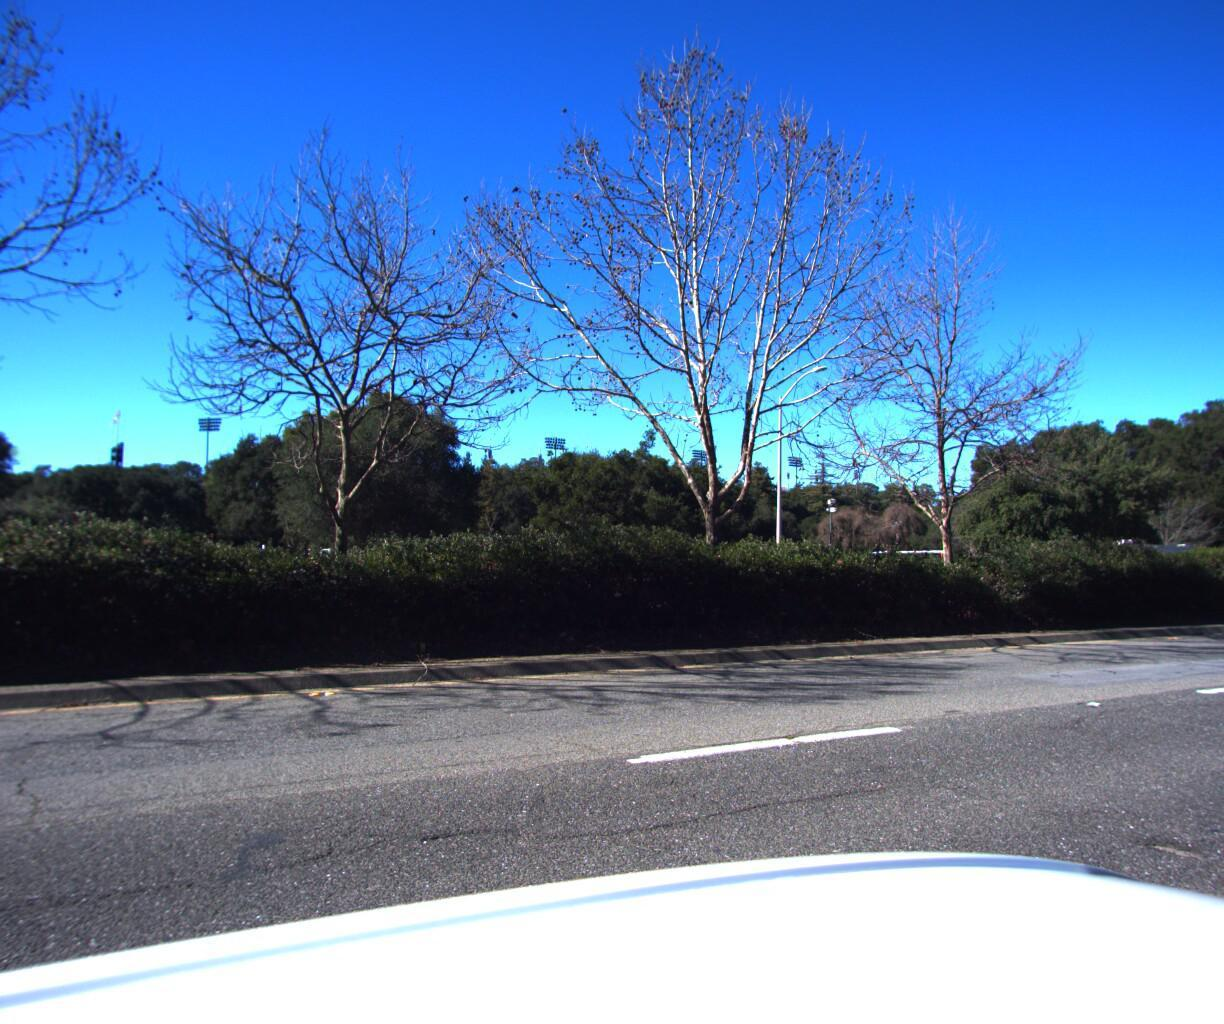other_vehicle: (1047, 530, 1199, 581)
